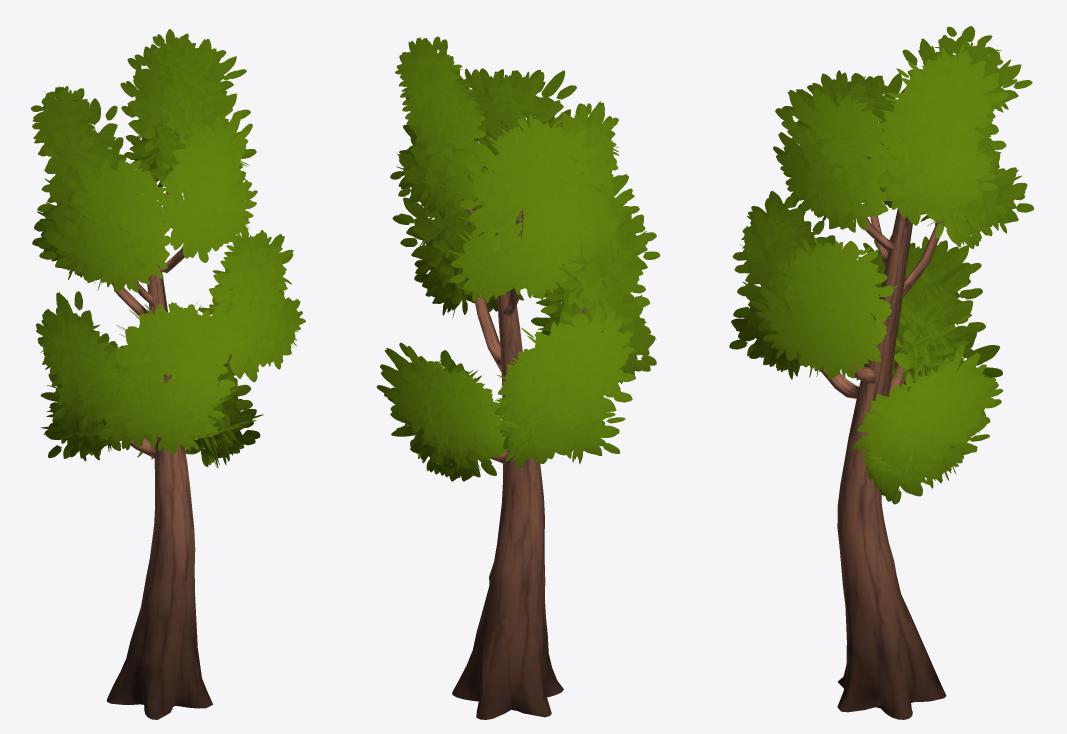
File: qn-CommonTree_3.glb
The picture shows the model from 3 angles, left to right: view 1: azimuth 30°, elevation 25°; view 2: azimuth 150°, elevation 25°; view 3: azimuth 270°, elevation 25°; orthographic projection. The views are drawn at different scales.
Parts seen in each view (by area): view 1: CommonTree_3; view 2: CommonTree_3; view 3: CommonTree_3.
Boxes of the visible parts, left/top/right/bottom form: CommonTree_3: left=30, top=29, right=305, bottom=719; CommonTree_3: left=376, top=36, right=660, bottom=719; CommonTree_3: left=729, top=26, right=1033, bottom=719.
Bounding box in the file's own units: 4.06 × 9.43 × 4.24.
Materials: 2 (2 with a texture image).
